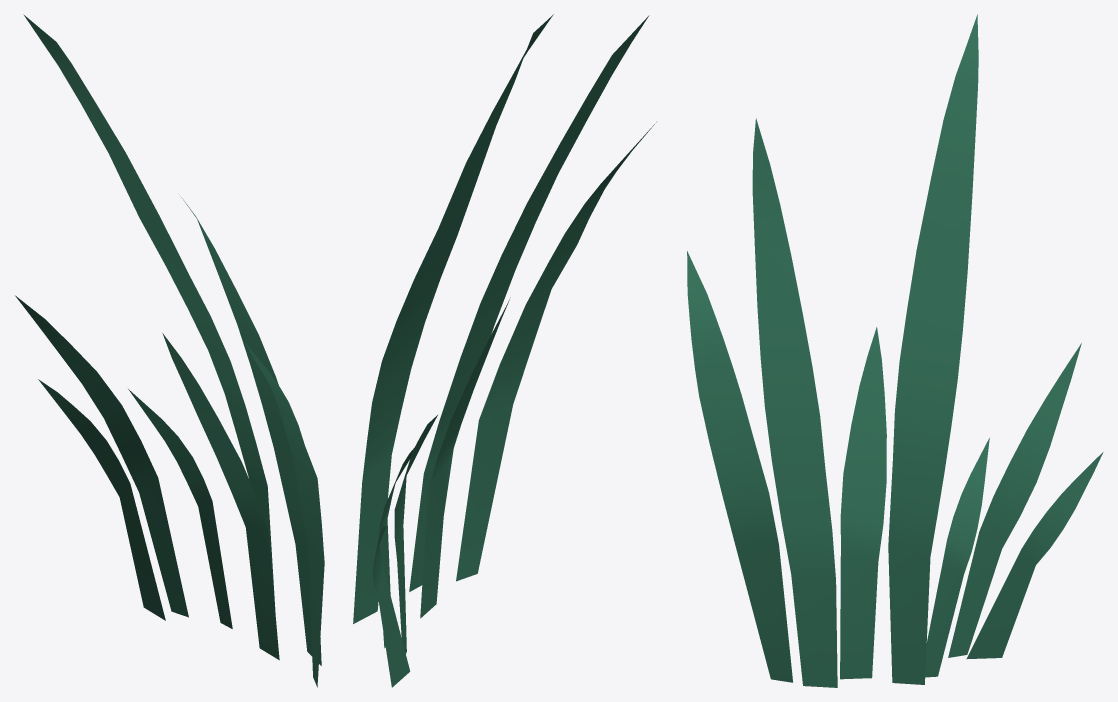
The model's file is plant_agave_D.fbx.
The picture shows the model from 3 angles, left to right: view 1: azimuth 30°, elevation 25°; view 2: azimuth 150°, elevation 25°; view 3: azimuth 270°, elevation 25°; orthographic projection. The views are drawn at different scales.
Visible parts, largest first — view 1: agave_D_leaf_A, agave_D_leaf_E, agave_D_leaf_D, agave_D_leaf_B, agave_D_leaf_C, agave_D_leaf_G, agave_D_leaf_F; view 2: agave_D_leaf_A, agave_D_leaf_C, agave_D_leaf_B, agave_D_leaf_D, agave_D_leaf_G, agave_D_leaf_E, agave_D_leaf_F; view 3: agave_D_leaf_A, agave_D_leaf_B, agave_D_leaf_C, agave_D_leaf_D, agave_D_leaf_E, agave_D_leaf_G, agave_D_leaf_F.
Boxes of the visible parts, bbox=[...] form: agave_D_leaf_A: bbox=[23, 14, 275, 613]; agave_D_leaf_E: bbox=[15, 295, 188, 617]; agave_D_leaf_D: bbox=[162, 333, 279, 660]; agave_D_leaf_B: bbox=[181, 197, 321, 665]; agave_D_leaf_C: bbox=[244, 342, 324, 687]; agave_D_leaf_G: bbox=[38, 379, 165, 620]; agave_D_leaf_F: bbox=[128, 389, 232, 628]; agave_D_leaf_A: bbox=[353, 14, 553, 623]; agave_D_leaf_C: bbox=[456, 122, 656, 581]; agave_D_leaf_B: bbox=[409, 15, 649, 591]; agave_D_leaf_D: bbox=[420, 297, 510, 618]; agave_D_leaf_G: bbox=[372, 526, 410, 687]; agave_D_leaf_E: bbox=[394, 415, 437, 653]; agave_D_leaf_F: bbox=[377, 448, 413, 648]; agave_D_leaf_A: bbox=[888, 14, 978, 684]; agave_D_leaf_B: bbox=[752, 118, 837, 687]; agave_D_leaf_C: bbox=[687, 251, 793, 682]; agave_D_leaf_D: bbox=[840, 327, 886, 679]; agave_D_leaf_E: bbox=[948, 343, 1081, 657]; agave_D_leaf_G: bbox=[966, 452, 1103, 659]; agave_D_leaf_F: bbox=[925, 437, 989, 677].
Size of the model in its own units: 13.89 by 39.93 by 25.83.
